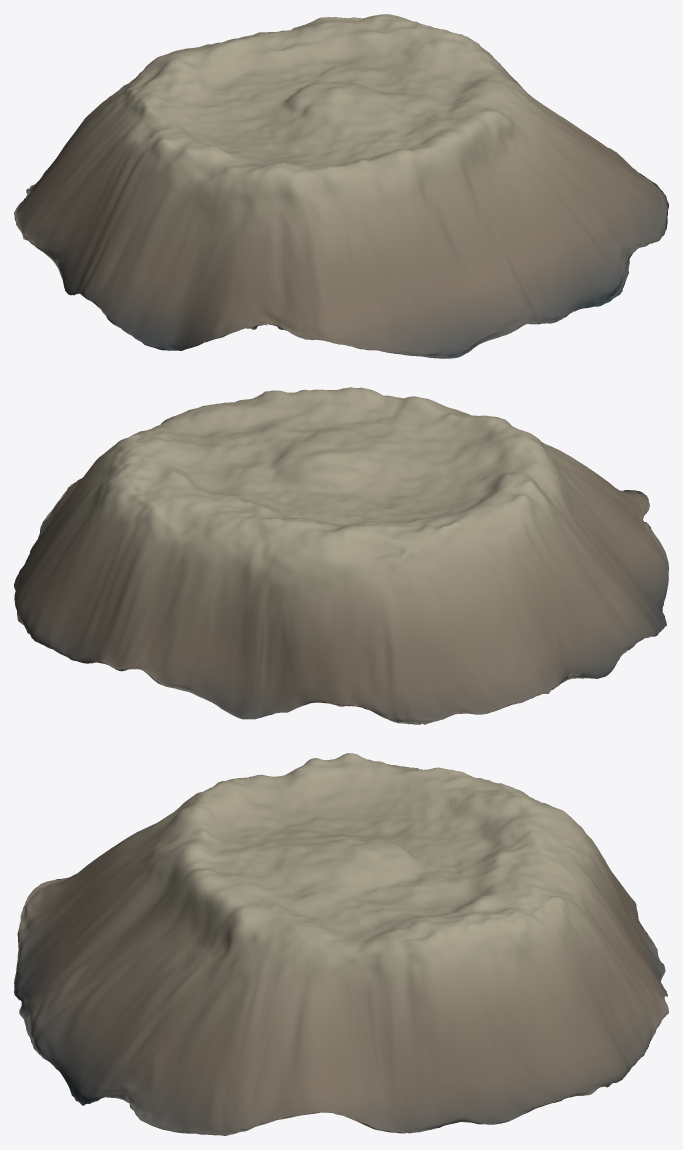
File: atoll-reef.glb
The picture shows the model from 3 angles, top to bottom: view 1: azimuth 30°, elevation 25°; view 2: azimuth 150°, elevation 25°; view 3: azimuth 270°, elevation 25°; orthographic projection. The views are drawn at different scales.
Parts seen in each view (by area): view 1: Reef; view 2: Reef; view 3: Reef.
Boxes of the visible parts, x1,y1,x2,y2 form: Reef: (14,14,668,358); Reef: (14,387,668,724); Reef: (14,753,668,1135).
Size of the model in its own units: 74 by 20.38 by 69.74.
